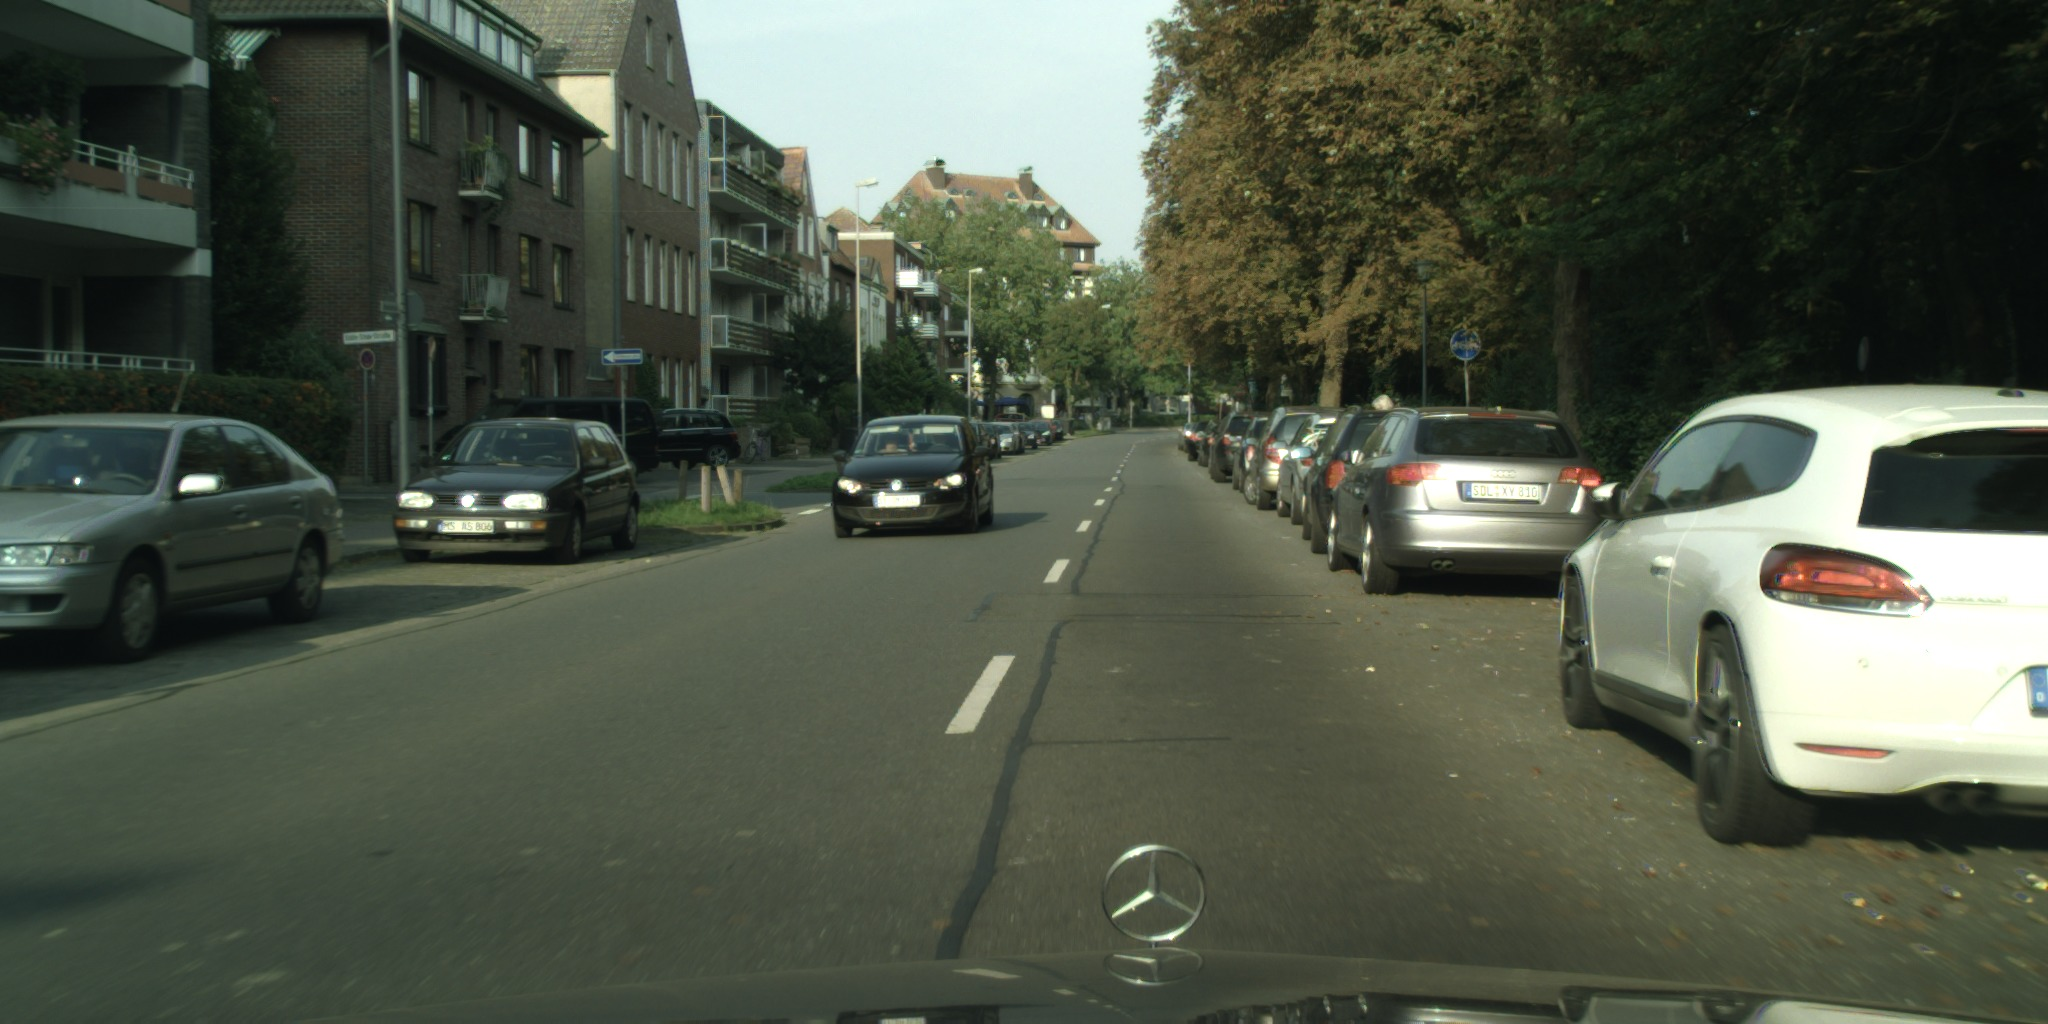bicycle: (742, 427, 772, 464)
car: (1557, 380, 2048, 848), (0, 411, 345, 667), (1326, 406, 1616, 595), (391, 416, 641, 564), (426, 397, 660, 488), (830, 413, 994, 538), (1291, 406, 1401, 555), (1243, 404, 1353, 511), (1271, 411, 1364, 524), (639, 408, 741, 472), (1207, 412, 1277, 485), (1231, 416, 1276, 494), (1195, 416, 1228, 469), (959, 418, 991, 470), (981, 421, 1026, 456), (1185, 419, 1217, 462), (1177, 420, 1213, 454), (974, 423, 1003, 463), (1014, 422, 1042, 450), (1027, 418, 1054, 445), (992, 412, 1036, 429), (1046, 417, 1064, 442)
person: (1370, 392, 1396, 422)
